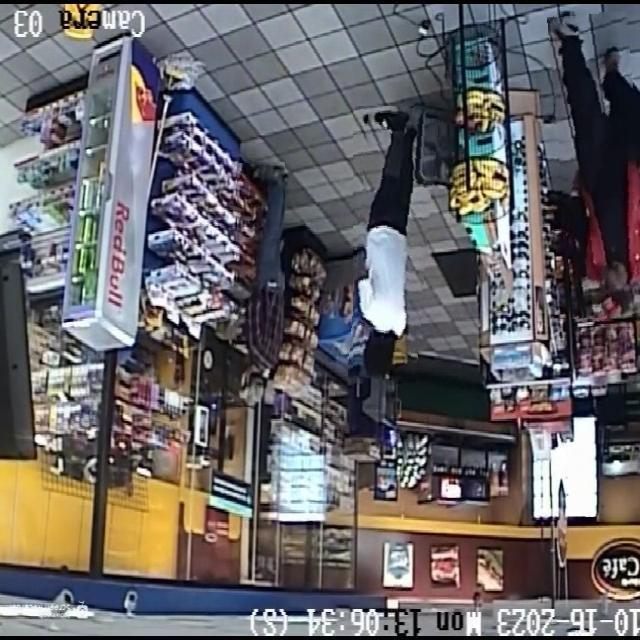Normal: (554, 12, 640, 318), (353, 106, 434, 382), (234, 162, 285, 407)
